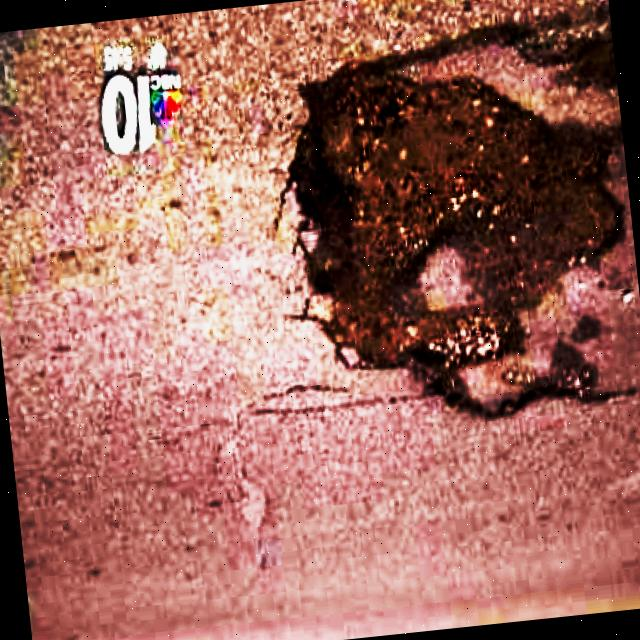pothole: (267, 39, 640, 398)
